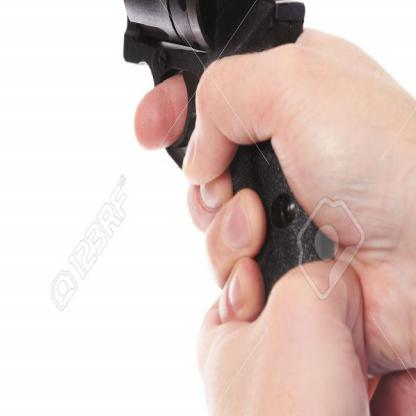gun: (71, 0, 376, 344)
